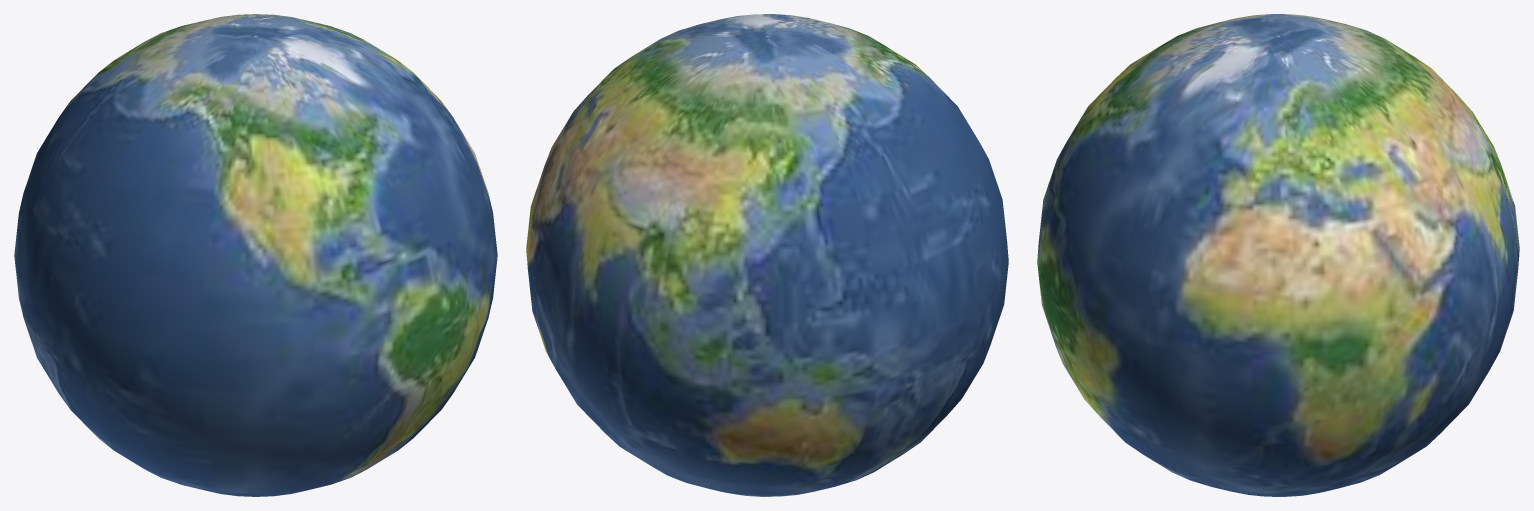
Rendered from earth.gltf.
3 views of the same model, side by side, from view 1: azimuth 30°, elevation 25°; view 2: azimuth 150°, elevation 25°; view 3: azimuth 270°, elevation 25° (orthographic).
Parts seen in each view (by area): view 1: earth; view 2: earth; view 3: earth.
Part boxes in pixels (left/top/right/bottom): earth: left=14, top=14, right=497, bottom=496; earth: left=526, top=14, right=1008, bottom=496; earth: left=1037, top=14, right=1519, bottom=496.
Size of the model in its own units: 2.97 by 2.97 by 2.97.
1 material, 1 textured.
